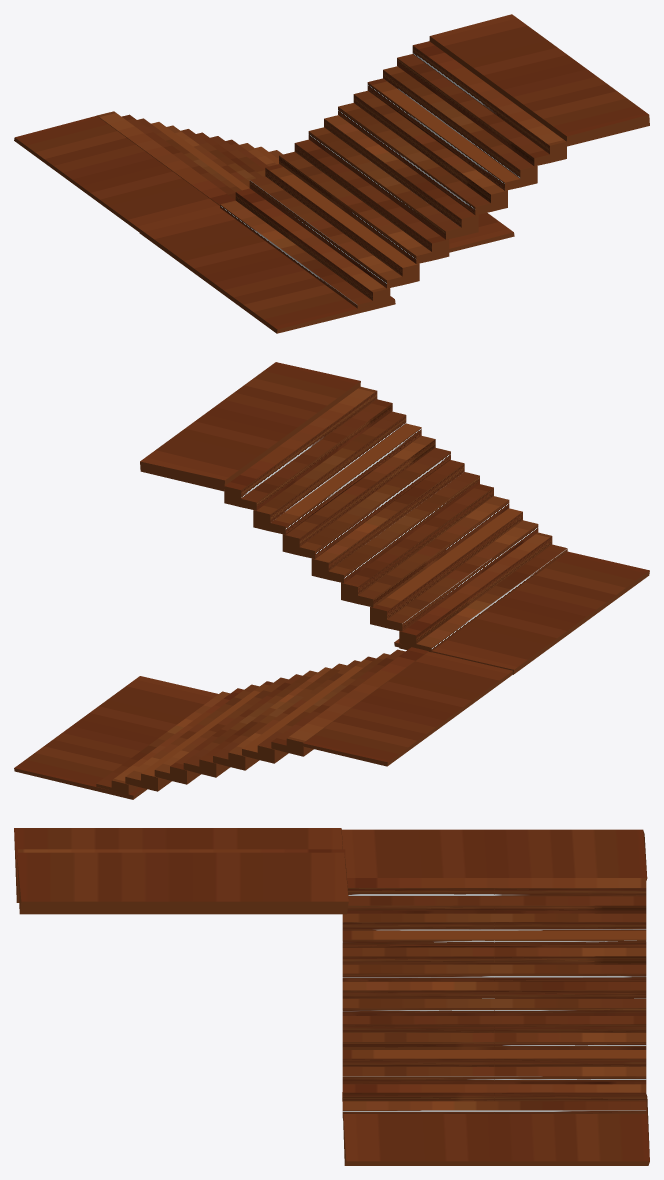
Rendered from Kaidan_2.fbx.
The picture shows the model from 3 angles, top to bottom: view 1: azimuth 30°, elevation 25°; view 2: azimuth 150°, elevation 25°; view 3: azimuth 270°, elevation 25°; orthographic projection. The views are drawn at different scales.
Parts seen in each view (by area): view 1: 立方体.048; view 2: 立方体.048; view 3: 立方体.048.
Part boxes in pixels (x1,y1,x2,y2): 立方体.048: [14, 14, 649, 333]; 立方体.048: [14, 362, 649, 799]; 立方体.048: [14, 828, 649, 1165].
Bounding box in the file's own units: 743 × 419 × 913.
